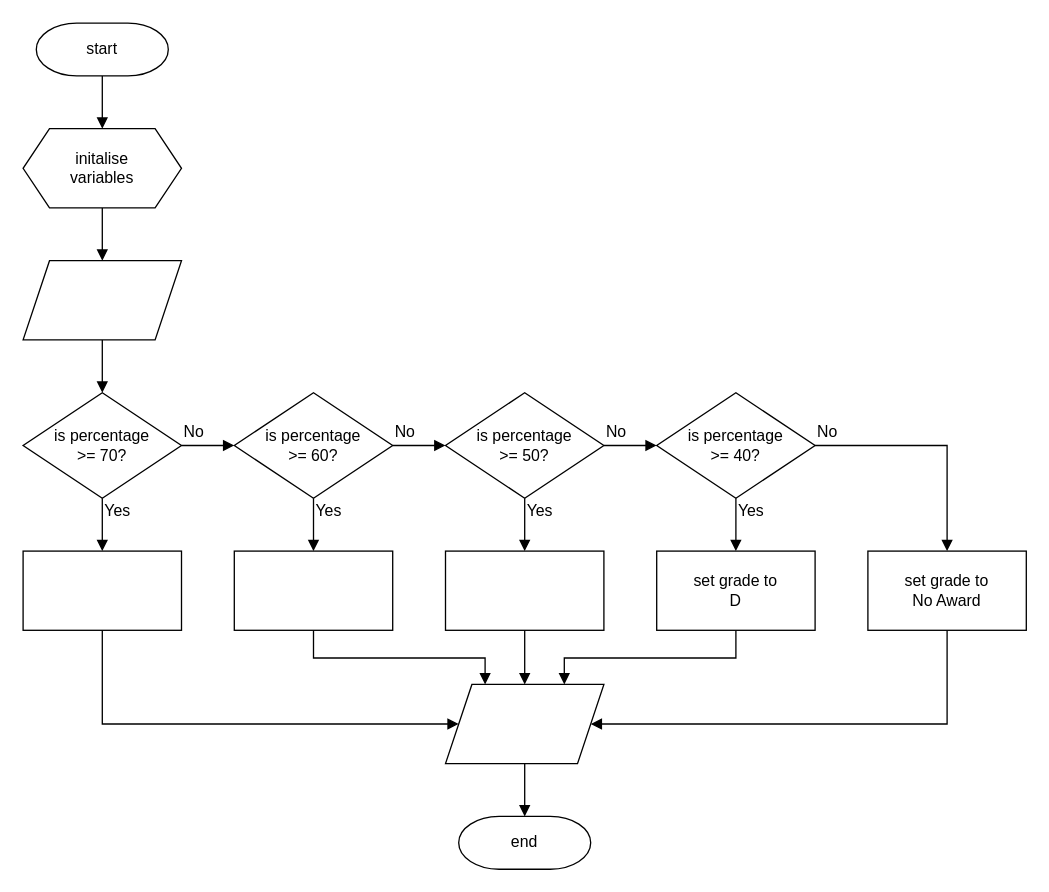
Some shapes in this 1049 by 892 pixel diagram are drawn without their labels. Each missing label, with the centre of its shape:
"display grade" goes at point (524, 723).
"get percentage from keyboard" goes at point (102, 299).
"set grade to A" goes at point (102, 590).
"set grade to B" goes at point (313, 590).
"set grade to C" goes at point (524, 590).
